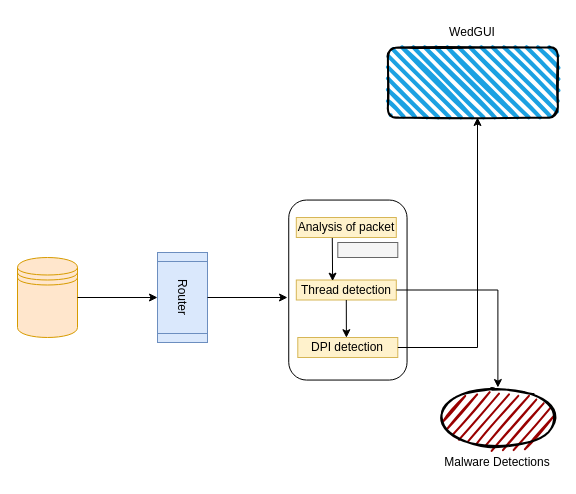
Some shapes in this 576 by 494 pixel diagram are drawn without their labels. The shapes that lost their labels are listed below. From the top down, each one's centre as x and y in pixels, then its label:
point (367, 250): Processing
point (47, 297): Internet
